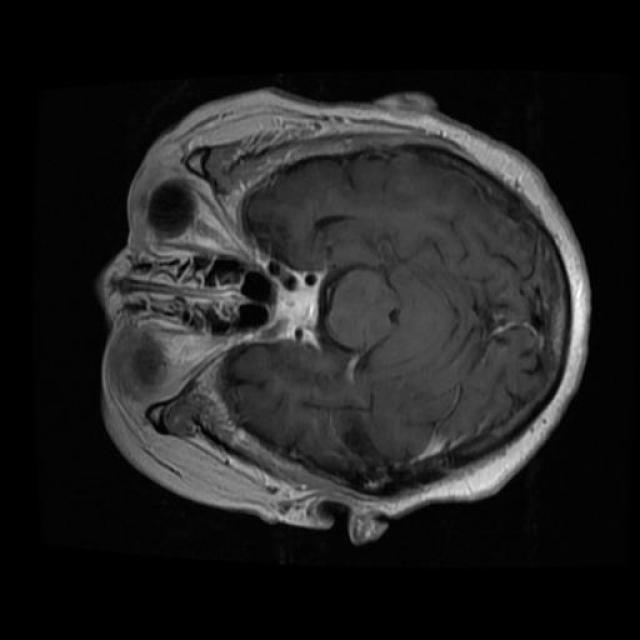Pituitary: (264, 261, 324, 344)
